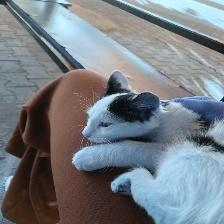kedo: (70, 70, 224, 171)
